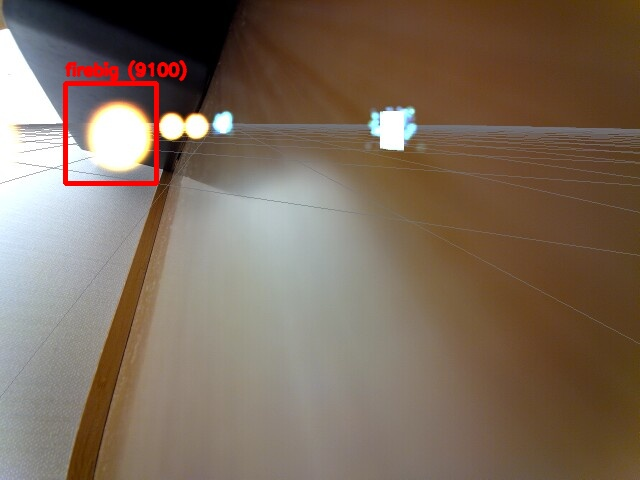firebig: (65, 83, 156, 183)
